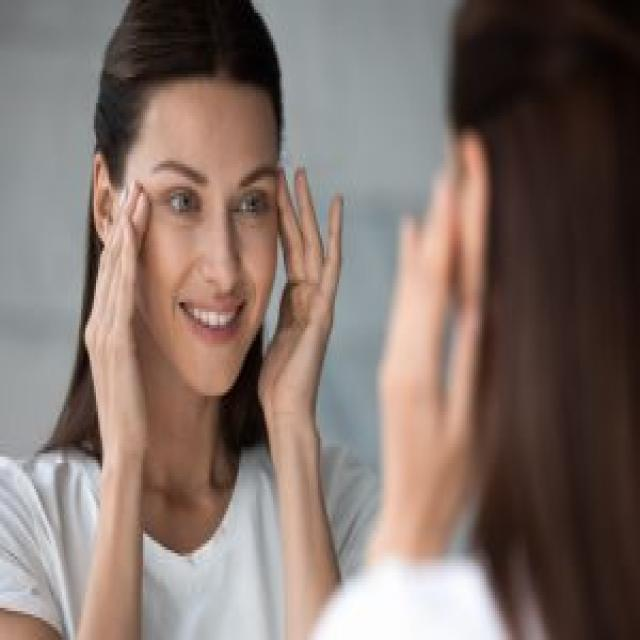oily: (200, 178, 248, 294), (128, 107, 190, 162)
